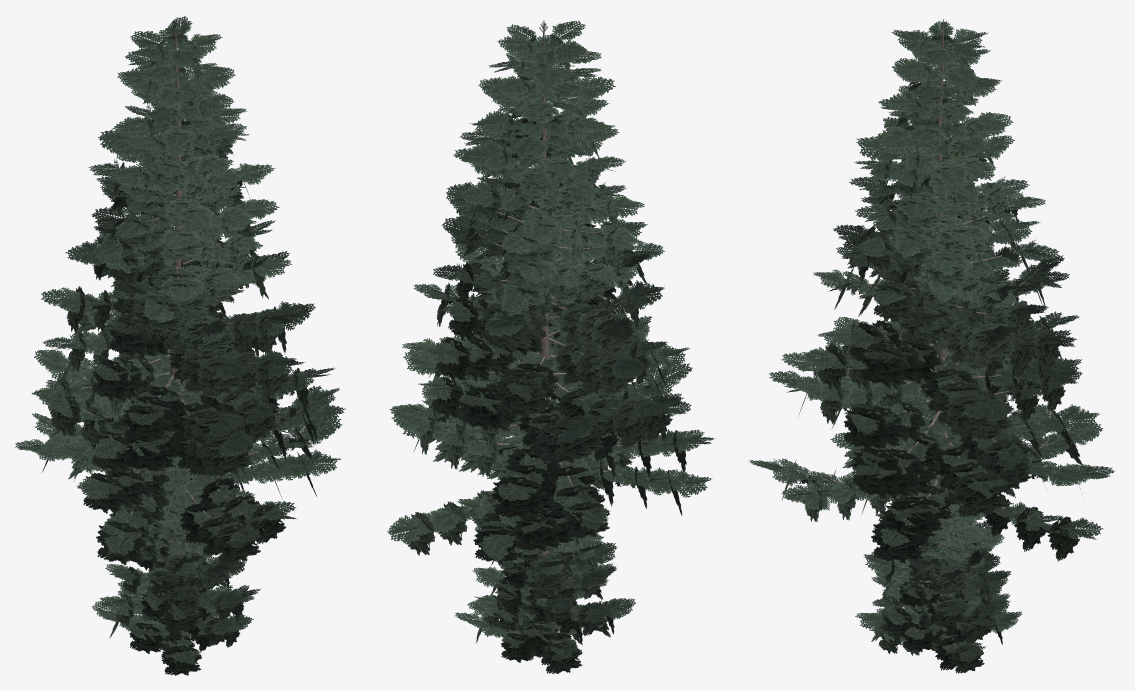
The model's file is sitka_spruce.glb.
3 renders of one model, left to right at view 1: azimuth 30°, elevation 25°; view 2: azimuth 150°, elevation 25°; view 3: azimuth 270°, elevation 25°, orthographic.
Parts seen in each view (by area): view 1: spruce_mature_lod0, spruce_young_lod0; view 2: spruce_mature_lod0, spruce_young_lod0; view 3: spruce_mature_lod0, spruce_young_lod0.
Part boxes in pixels (<box>): spruce_mature_lod0: <box>15,16,345,637</box>; spruce_young_lod0: <box>92,456,261,675</box>; spruce_mature_lod0: <box>387,20,715,563</box>; spruce_young_lod0: <box>454,420,636,673</box>; spruce_mature_lod0: <box>749,19,1114,650</box>; spruce_young_lod0: <box>855,413,1022,673</box>.
Size of what is drawn, in the model's own units: 11.41 by 24.07 by 12.75.
Materials: 3 (3 with a texture image).
